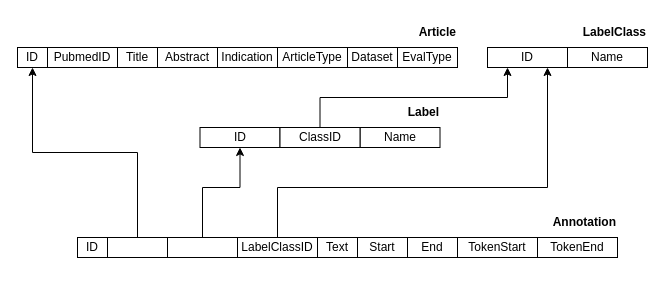
Image size: 665x283. Some labels were removed from this diagram. The centre of each missing label's shape, as x and y in pixels:
ArticleID: (x=137, y=247)
LabelID: (x=202, y=247)
